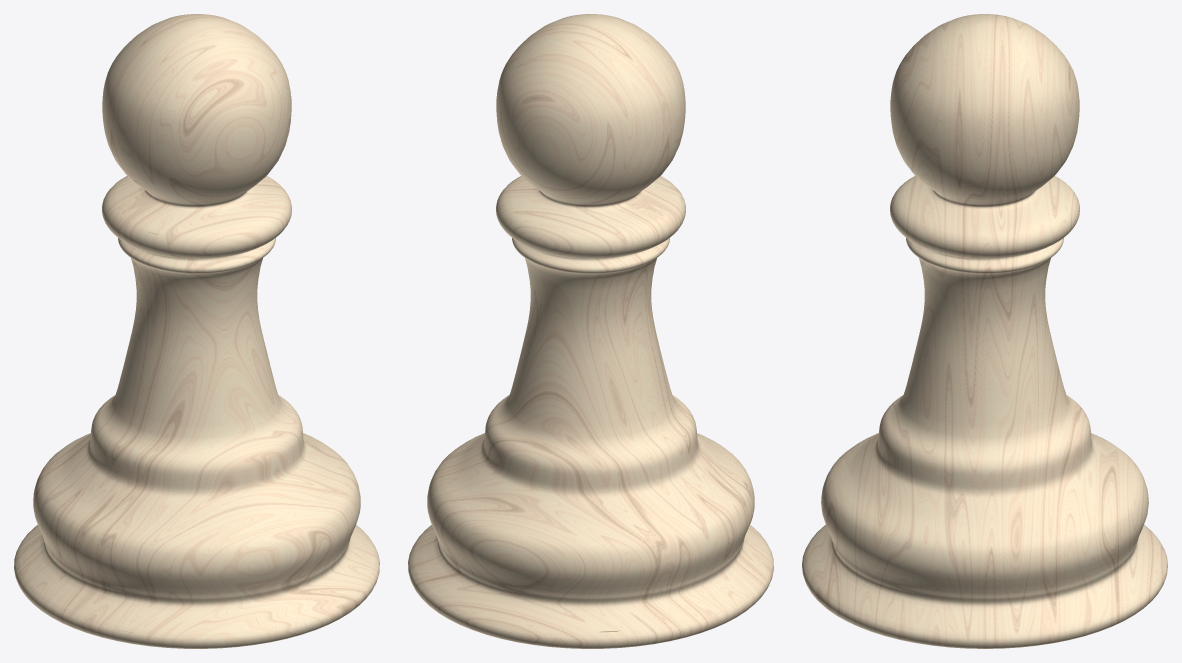
Rendered from Pawn.fbx.
The picture shows the model from 3 angles, left to right: view 1: azimuth 30°, elevation 25°; view 2: azimuth 150°, elevation 25°; view 3: azimuth 270°, elevation 25°; orthographic projection.
Visible parts, largest first — view 1: Pawn; view 2: Pawn; view 3: Pawn.
Part boxes in pixels (x1,y1,x2,y2): Pawn: (14, 14, 379, 648); Pawn: (408, 14, 773, 648); Pawn: (802, 14, 1167, 648).
Size of the model in its own units: 219 by 366 by 219.
